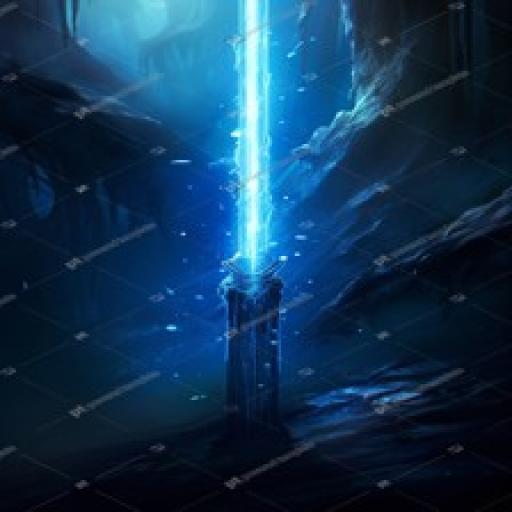lightsaber: (217, 1, 287, 407)
